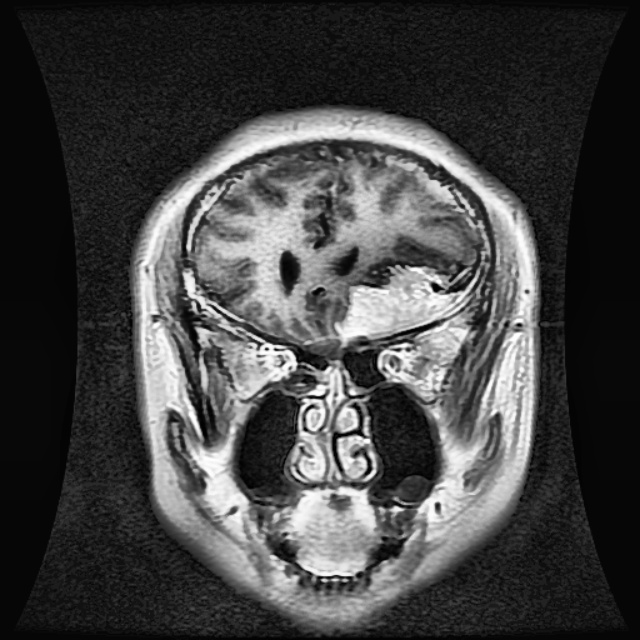Glioma: (335, 264, 475, 340)
